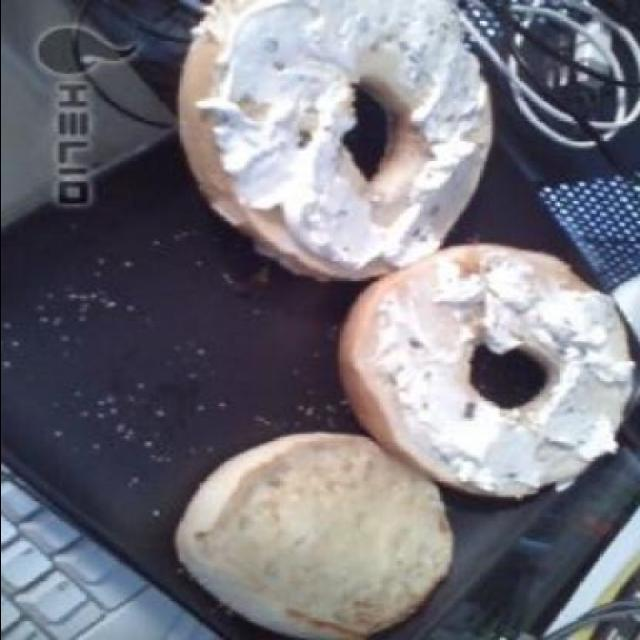Bagel: (175, 0, 491, 280), (341, 244, 630, 502), (172, 432, 454, 638)
